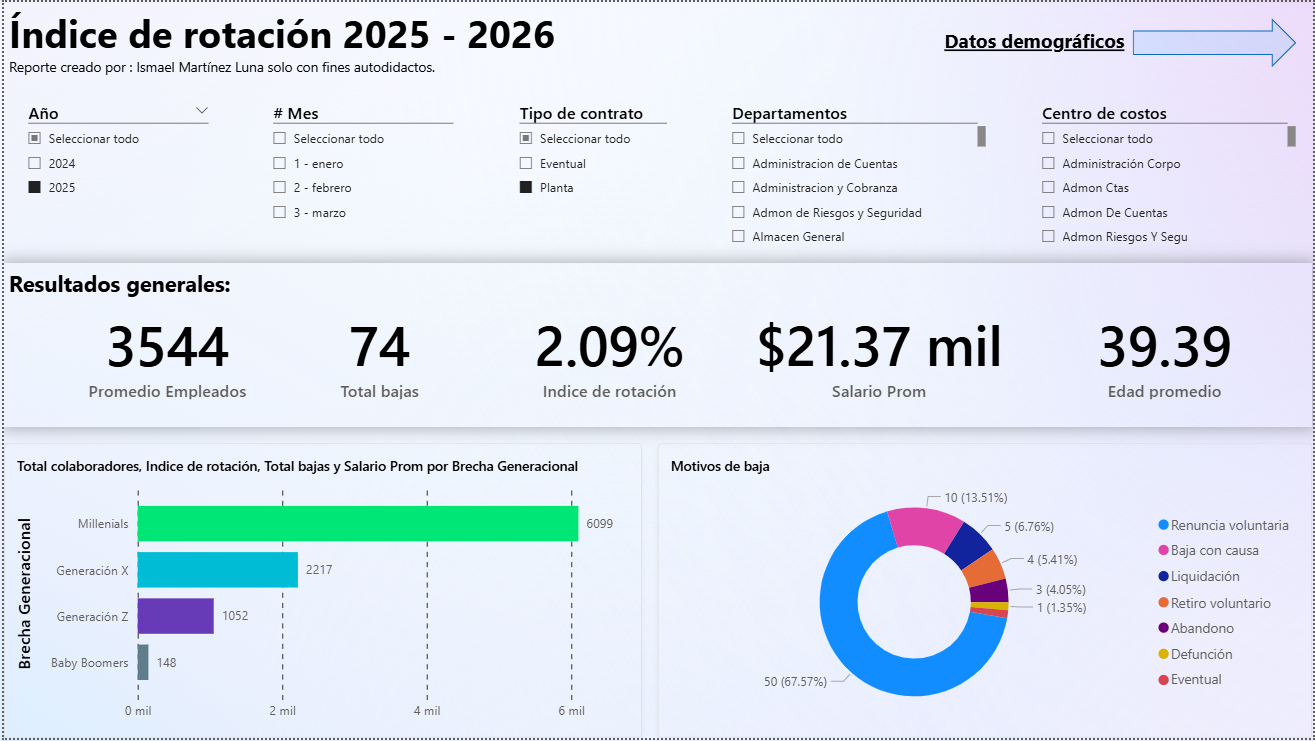

This screenshot's page, from the dashboard's own definition file:
{"tool":"powerbi","page":{"name":"Dashboard General","canvas":[1280,720],"ordinal":0},"visuals":[{"type":"textbox","box":[0,256,1280,160],"z":0},{"type":"donutChart","title":"Motivos de baja","fields":{"Y":["Medidas DAX.Total bajas"],"Category":["rrhh_dw fact_movimientos_empleados.motivo_baja"]},"box":[640,432,640,288],"z":1000},{"type":"slicer","fields":{"Values":["rrhh_dw dim_tiempo.Año"]},"box":[16,96,192,144],"z":2000},{"type":"slicer","fields":{"Values":["rrhh_dw dim_tiempo.# Mes"]},"box":[256,96,192,144],"z":3000},{"type":"slicer","fields":{"Values":["rrhh_dw dim_empleado.tipo_contrato"]},"box":[496,96,160,144],"z":4000},{"type":"slicer","fields":{"Values":["rrhh_dw dim_ceco.descripcion"]},"box":[1008,96,256,144],"z":5000},{"type":"slicer","fields":{"Values":["rrhh_dw dim_departamentos.departamento"]},"box":[704,96,256,144],"z":6000},{"type":"card","fields":{"Values":["rrhh_dw fact_movimientos_empleados.Total bajas"]},"box":[272,288,192,112],"z":7000},{"type":"card","fields":{"Values":["rrhh_dw fact_movimientos_empleados.Salario Prom"]},"box":[720,288,272,112],"z":8000},{"type":"barChart","fields":{"Category":["rrhh_dw dim_empleado.Brecha Generacional"],"Y":["Medidas DAX.Total colaboradores"]},"box":[0,432,624,288],"z":9000},{"type":"card","fields":{"Values":["Medidas DAX.Indice de rotación"]},"box":[496,288,192,112],"z":10000},{"type":"card","fields":{"Values":["Medidas DAX.Total empleados"]},"box":[32,288,256,112],"z":11000},{"type":"textbox","box":[0,0,1280,80],"z":12000},{"type":"shape","box":[1104,16,160,48],"z":13000},{"type":"card","fields":{"Values":["Medidas DAX.Edad promedio"]},"box":[1024,288,224,112],"z":14000}]}

Visuals, with their boxes in screenshot pixels (x1, y1, x2, y2), scaled from the page's 1280x720 canvas onto the 1315x741 screenshot:
textbox: pyautogui.locateOnScreen(0, 263, 1314, 428)
"Motivos de baja" donutChart: pyautogui.locateOnScreen(658, 445, 1314, 740)
slicer - rrhh_dw dim_tiempo.Año: pyautogui.locateOnScreen(16, 99, 214, 247)
slicer - rrhh_dw dim_tiempo.# Mes: pyautogui.locateOnScreen(263, 99, 460, 247)
slicer - rrhh_dw dim_empleado.tipo_contrato: pyautogui.locateOnScreen(510, 99, 674, 247)
slicer - rrhh_dw dim_ceco.descripcion: pyautogui.locateOnScreen(1036, 99, 1299, 247)
slicer - rrhh_dw dim_departamentos.departamento: pyautogui.locateOnScreen(723, 99, 986, 247)
card - rrhh_dw fact_movimientos_empleados.Total bajas: pyautogui.locateOnScreen(279, 296, 477, 412)
card - rrhh_dw fact_movimientos_empleados.Salario Prom: pyautogui.locateOnScreen(740, 296, 1019, 412)
barChart - rrhh_dw dim_empleado.Brecha Generacional x Medidas DAX.Total colaboradores: pyautogui.locateOnScreen(0, 445, 641, 740)
card - Medidas DAX.Indice de rotación: pyautogui.locateOnScreen(510, 296, 707, 412)
card - Medidas DAX.Total empleados: pyautogui.locateOnScreen(33, 296, 296, 412)
textbox: pyautogui.locateOnScreen(0, 0, 1314, 82)
shape: pyautogui.locateOnScreen(1134, 16, 1299, 66)
card - Medidas DAX.Edad promedio: pyautogui.locateOnScreen(1052, 296, 1282, 412)
